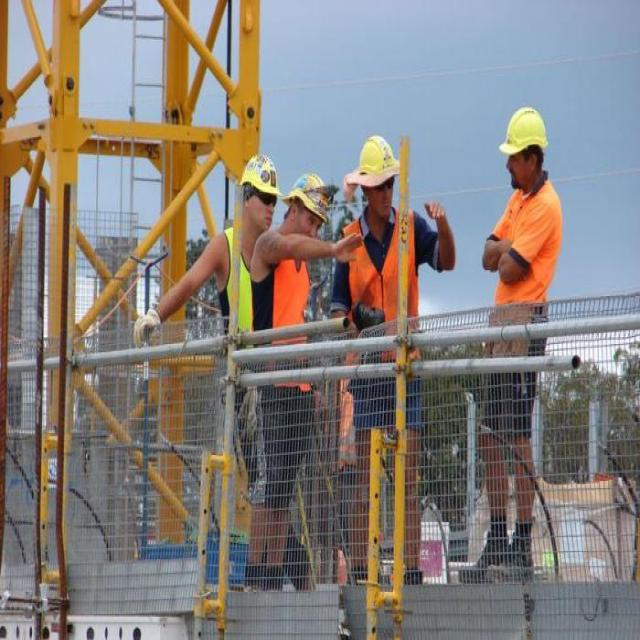Reflective-Jacket: (343, 203, 428, 360)
Safety-Helmet: (346, 124, 404, 194), (496, 99, 552, 164), (280, 163, 333, 222), (233, 146, 285, 202)
